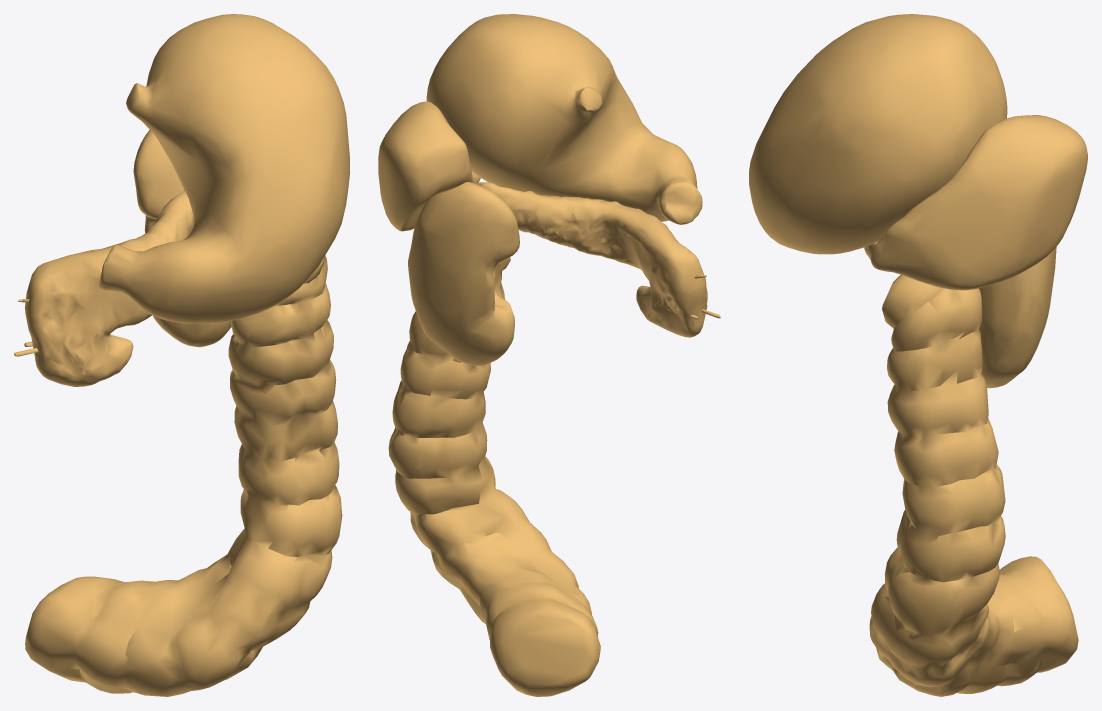
File: hipocondrio-esquerdo.glb
The picture shows the model from 3 angles, left to right: view 1: azimuth 30°, elevation 25°; view 2: azimuth 150°, elevation 25°; view 3: azimuth 270°, elevation 25°; orthographic projection. The views are drawn at different scales.
Visible parts, largest first — view 1: colon-descendente, estomago, pancreas, rim-esquerdo; view 2: colon-descendente, estomago, rim-esquerdo, pancreas, baco; view 3: colon-descendente, estomago, baco, rim-esquerdo.
Boxes of the visible parts, <box> form: colon-descendente: <box>25,255,342,696</box>; estomago: <box>98,14,349,323</box>; pancreas: <box>14,190,193,386</box>; rim-esquerdo: <box>133,130,231,347</box>; colon-descendente: <box>388,257,600,696</box>; estomago: <box>426,14,702,224</box>; rim-esquerdo: <box>408,182,519,365</box>; pancreas: <box>475,182,720,337</box>; baco: <box>378,101,480,231</box>; colon-descendente: <box>869,274,1078,696</box>; estomago: <box>749,14,1007,254</box>; baco: <box>870,115,1087,290</box>; rim-esquerdo: <box>979,247,1056,388</box>.
Size of the model in its own units: 0.174 by 0.3346 by 0.1482.
